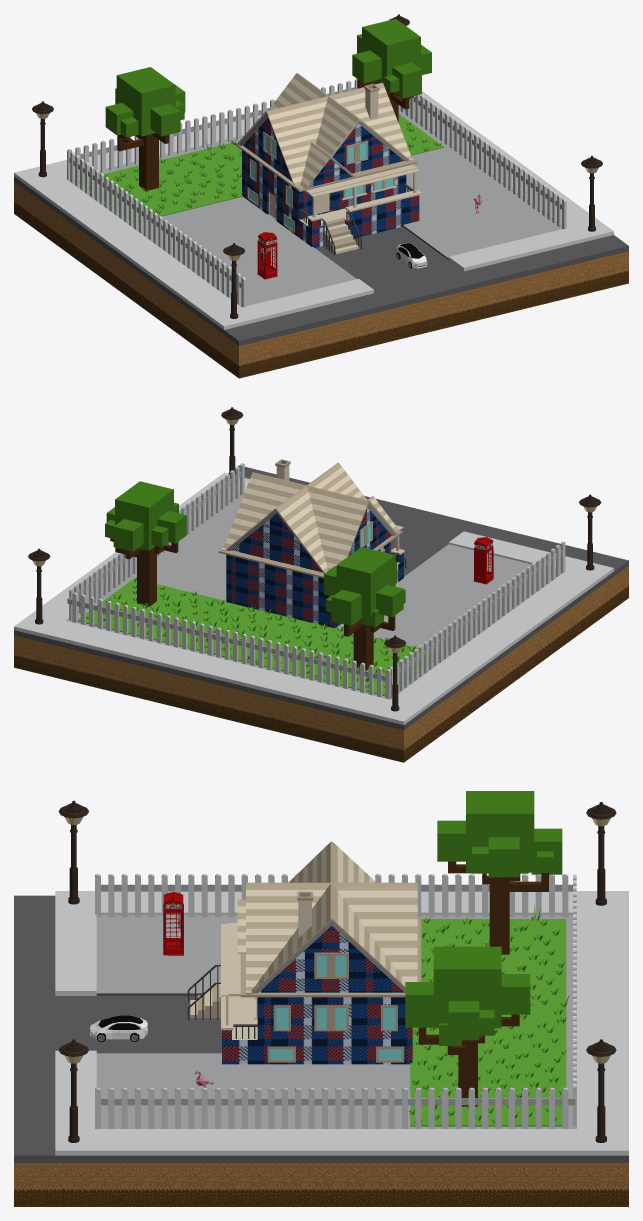
3 renders of one model, top to bottom at view 1: azimuth 30°, elevation 25°; view 2: azimuth 150°, elevation 25°; view 3: azimuth 270°, elevation 25°, orthographic. The views are drawn at different scales.
Visible parts, largest first — view 1: Cube.004, Cube.171, OBJRANDOM_PHONEBOOTH, VEHICLES_TESLA; view 2: Cube.004, Cube.171, OBJRANDOM_PHONEBOOTH; view 3: Cube.004, Cube.171, VEHICLES_TESLA, OBJRANDOM_PHONEBOOTH.
Part boxes in pixels (x1,y1,x2,y2): Cube.004: (14, 14, 628, 378); Cube.171: (233, 73, 422, 255); OBJRANDOM_PHONEBOOTH: (257, 232, 277, 279); VEHICLES_TESLA: (396, 243, 427, 268); Cube.004: (14, 407, 628, 762); Cube.171: (218, 459, 406, 627); OBJRANDOM_PHONEBOOTH: (473, 537, 493, 584); Cube.004: (14, 791, 628, 1206); Cube.171: (187, 841, 421, 1064); VEHICLES_TESLA: (90, 1015, 148, 1041); OBJRANDOM_PHONEBOOTH: (163, 892, 183, 955).
Bounding box in the file's own units: 4000 × 1702 × 4000.
Materials: 37 (4 with a texture image).
